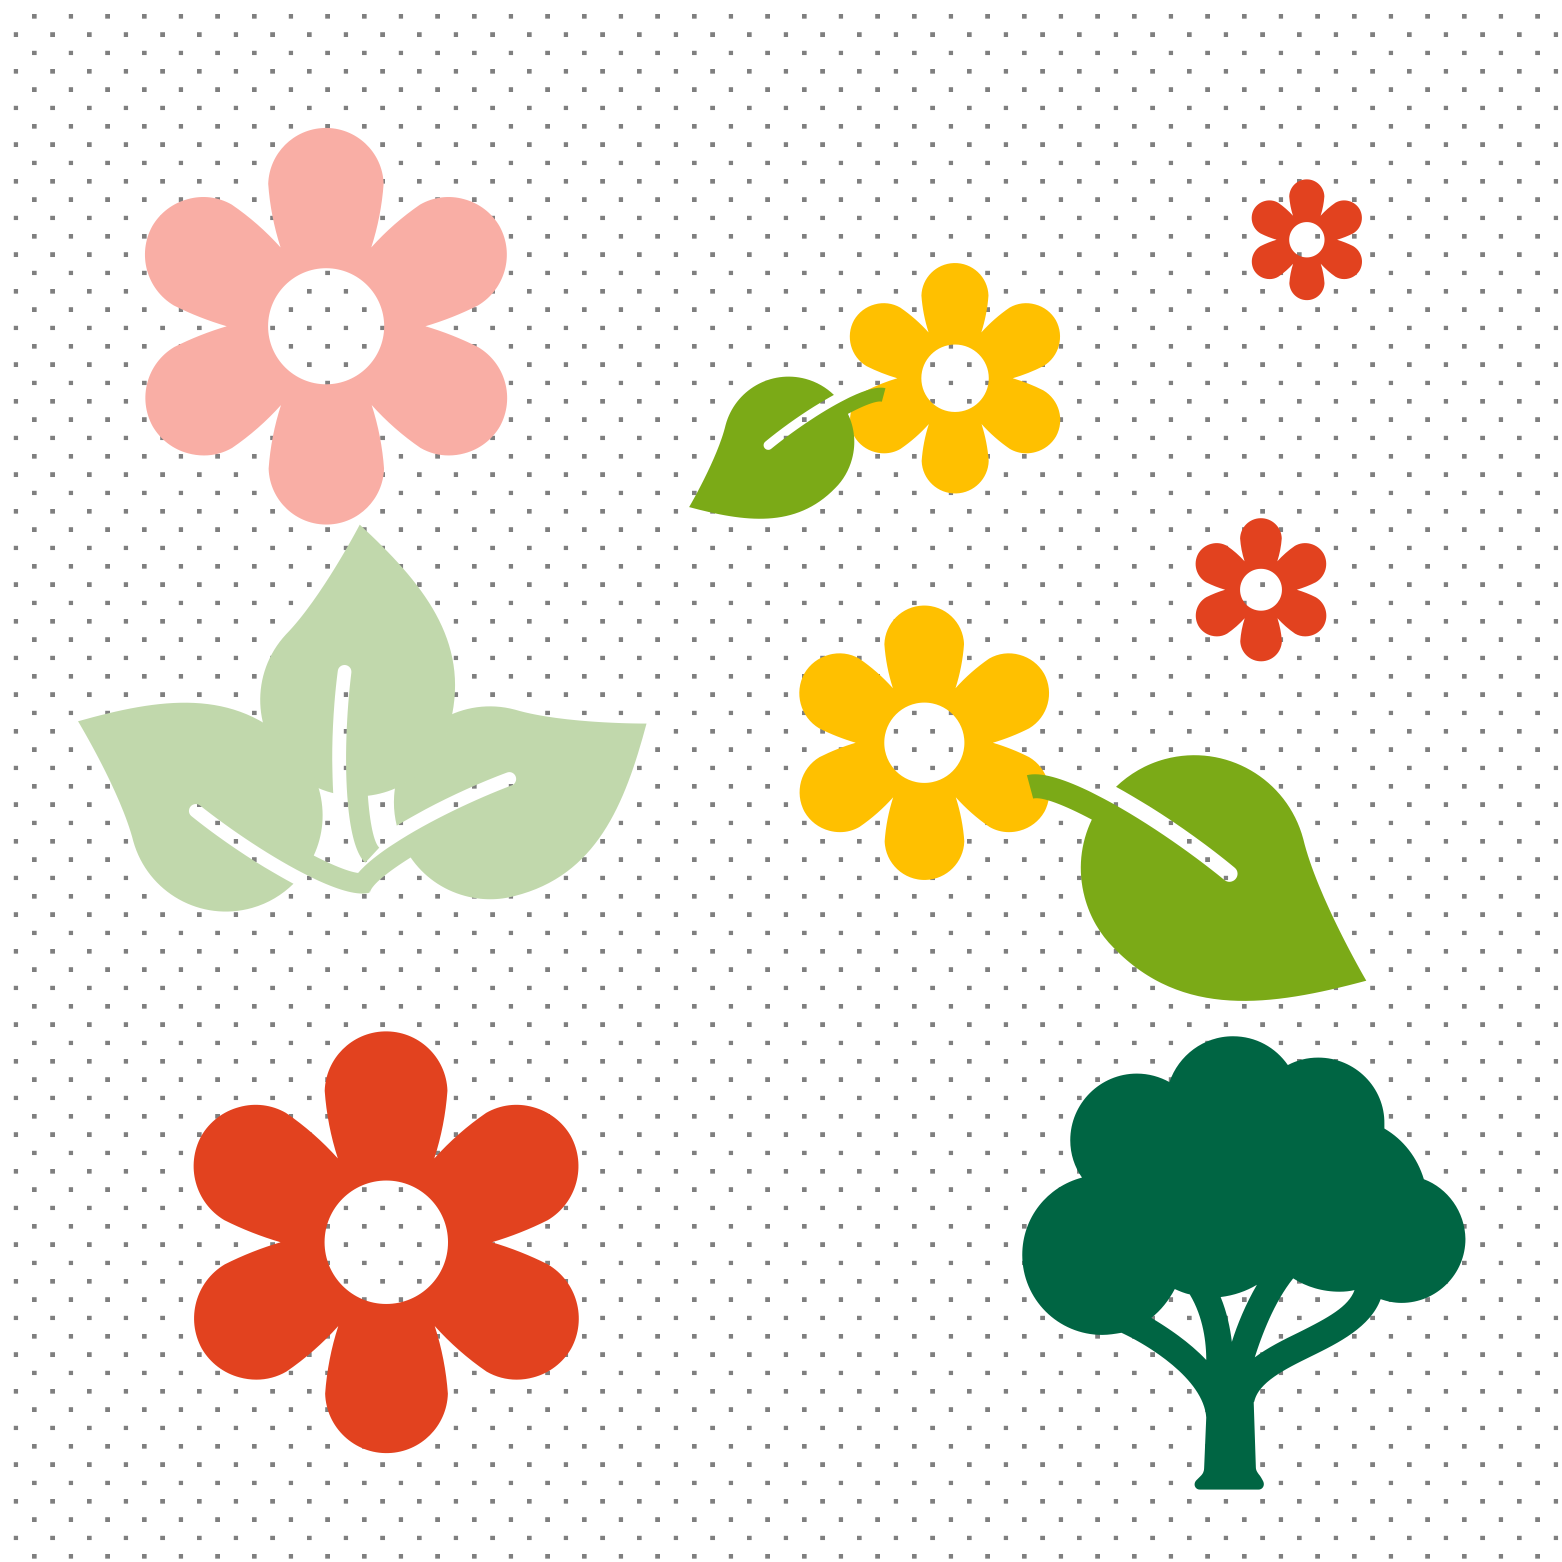flower: (180, 1021, 591, 1460), (137, 117, 524, 526), (782, 599, 1061, 880), (845, 260, 1071, 499), (1184, 496, 1340, 672), (1229, 172, 1369, 315)
leaf: (1018, 747, 1370, 1003), (255, 522, 461, 870), (79, 695, 358, 925), (358, 702, 647, 910), (685, 370, 888, 526)
tree: (1007, 1031, 1472, 1500)
